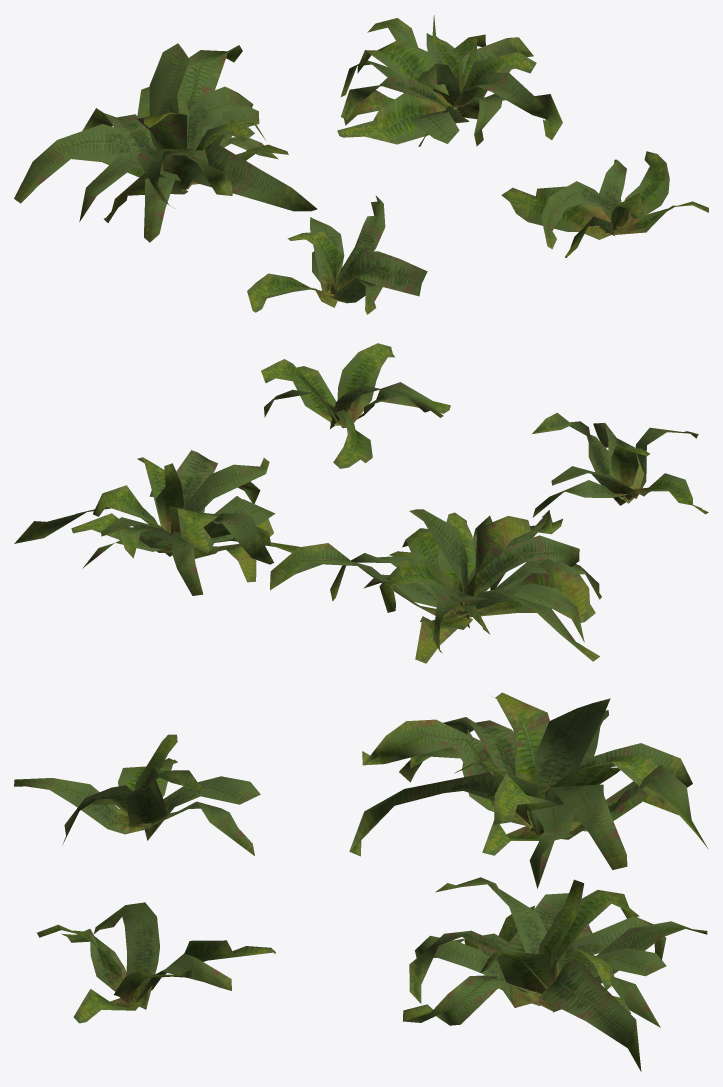
File: fern_02.glb
3 renders of one model, top to bottom at view 1: azimuth 30°, elevation 25°; view 2: azimuth 150°, elevation 25°; view 3: azimuth 270°, elevation 25°, orthographic. The views are drawn at different scales.
Visible parts, largest first — view 1: fern_02_b, fern_02_c, fern_02_d, fern_02_a; view 2: fern_02_b, fern_02_c, fern_02_d, fern_02_a; view 3: fern_02_b, fern_02_c, fern_02_a, fern_02_d.
Boxes of the visible parts, x1,y1,x2,y2 form: fern_02_b: (14, 43, 317, 242); fern_02_c: (337, 15, 562, 146); fern_02_d: (501, 151, 708, 257); fern_02_a: (247, 195, 427, 314); fern_02_b: (270, 509, 601, 663); fern_02_c: (14, 450, 299, 595); fern_02_d: (261, 343, 450, 468); fern_02_a: (532, 412, 708, 517); fern_02_b: (349, 692, 707, 888); fern_02_c: (403, 877, 707, 1071); fern_02_a: (14, 734, 260, 855); fern_02_d: (37, 902, 275, 1023).
Bounding box in the file's own units: 1.96 × 0.4246 × 1.71.
1 material, 1 textured.
